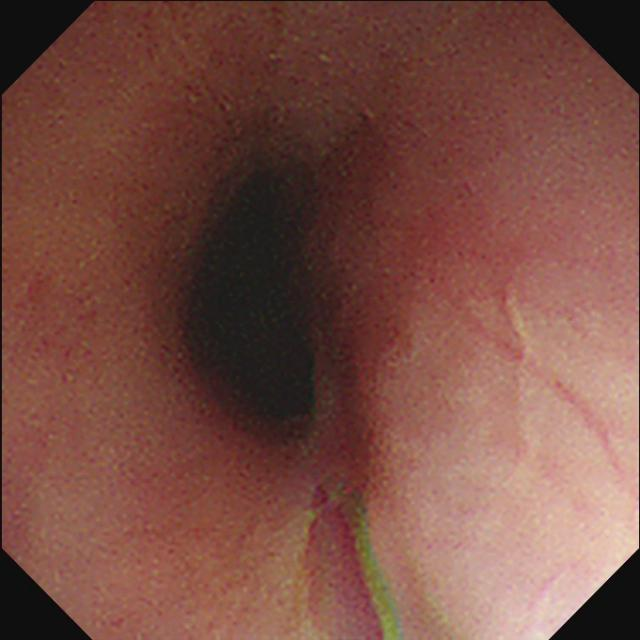E: (188, 177, 315, 417)
U: (344, 490, 400, 640)
